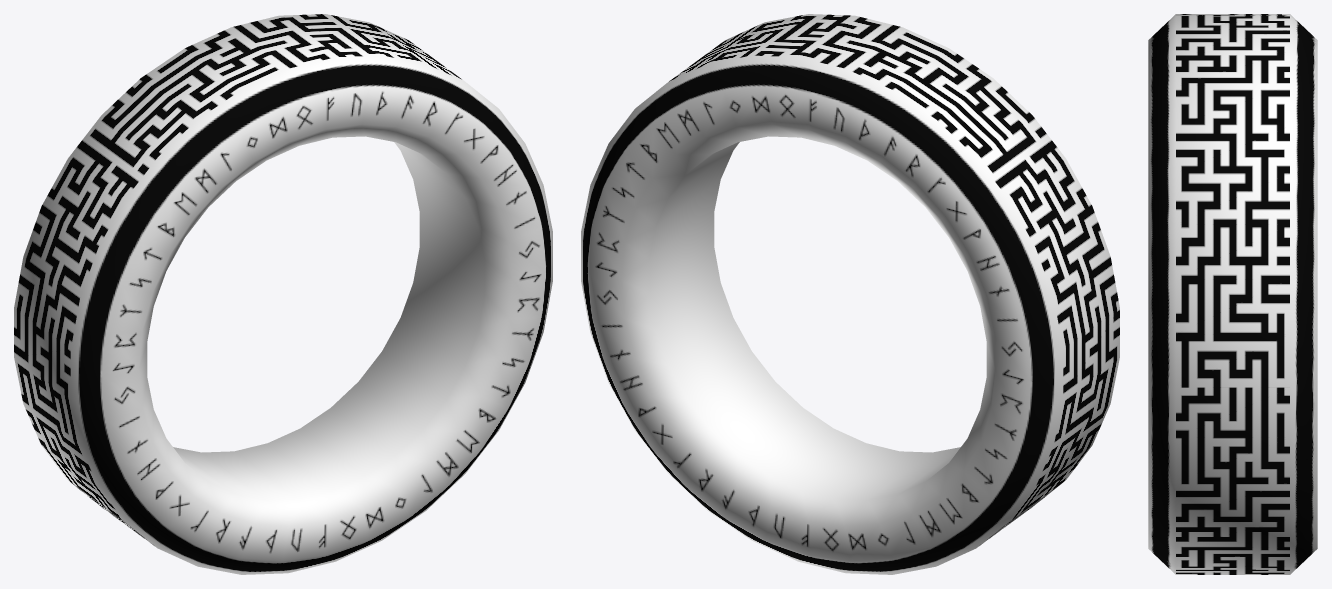
The model's file is ring.fbx.
3 renders of one model, left to right at view 1: azimuth 30°, elevation 25°; view 2: azimuth 150°, elevation 25°; view 3: azimuth 270°, elevation 25°, orthographic.
Visible parts, largest first — view 1: Cylinder; view 2: Cylinder; view 3: Cylinder.
Boxes of the visible parts, box(x1,y1,x2,y2) form: Cylinder: box(14, 14, 552, 574); Cylinder: box(581, 14, 1119, 574); Cylinder: box(1148, 14, 1317, 574).
Size of the model in its own units: 198 by 198 by 60.
